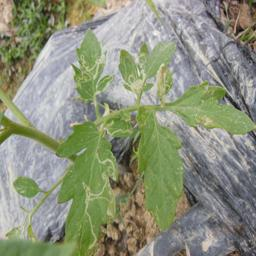liriomyza: (81, 147, 117, 250), (75, 53, 104, 88), (124, 66, 147, 97)
